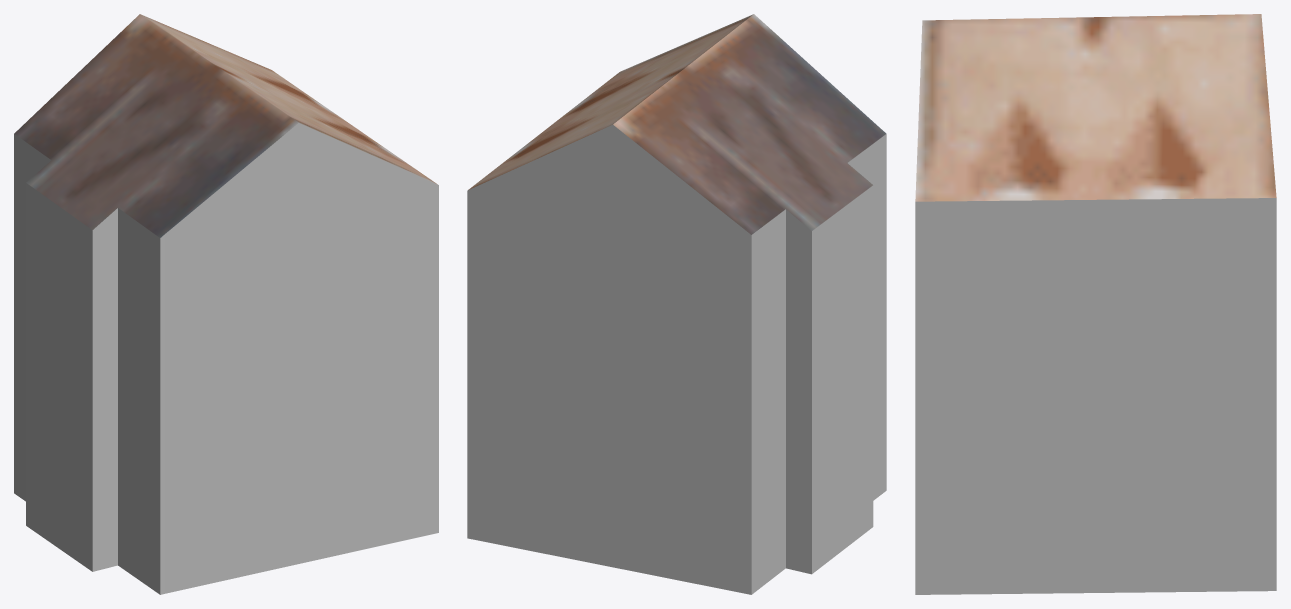
The model's file is DEBW_0010007Tx7s.gltf.
3 views of the same model, side by side, from view 1: azimuth 30°, elevation 25°; view 2: azimuth 150°, elevation 25°; view 3: azimuth 270°, elevation 25° (orthographic). The views are drawn at different scales.
Parts seen in each view (by area): view 1: Z_UP; view 2: Z_UP; view 3: Z_UP.
Boxes of the visible parts, box(x1,y1,x2,y2) form: Z_UP: box(14, 14, 438, 594); Z_UP: box(467, 14, 886, 594); Z_UP: box(915, 14, 1276, 594).
Size of the model in its own units: 11.89 by 16.63 by 10.88.
2 materials, 1 textured.
